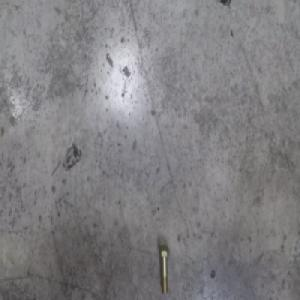Bolt: (158, 243, 170, 294)
